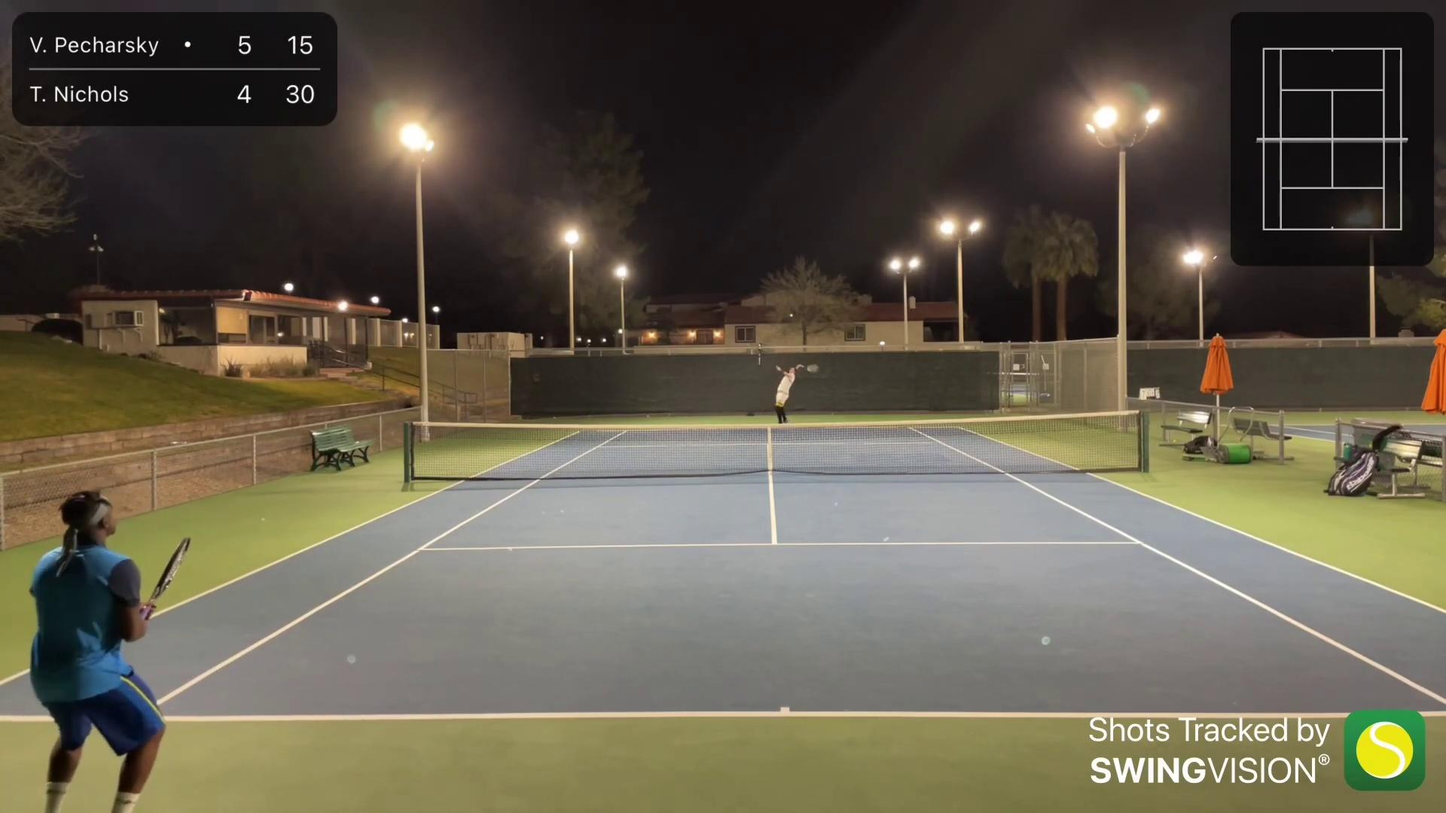ball: (788, 312, 795, 319)
